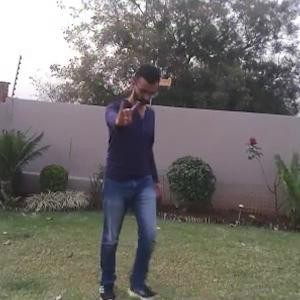takeoff-hand: (112, 95, 143, 129)
